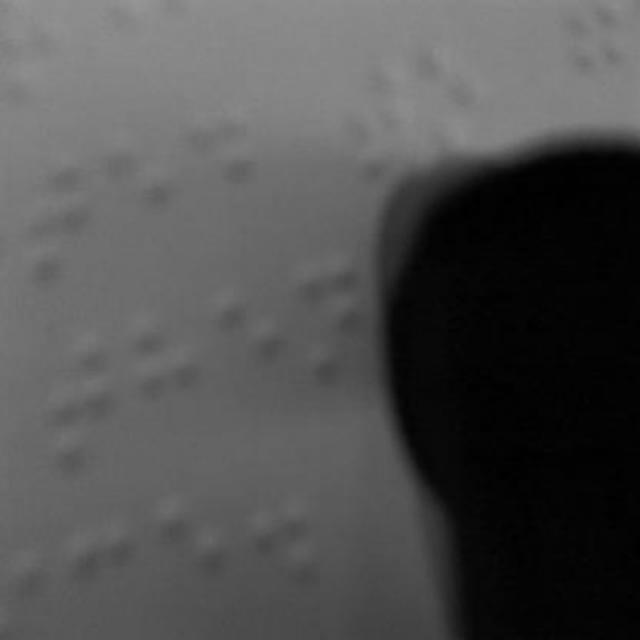braiile: (42, 323, 126, 483), (12, 137, 90, 293), (182, 92, 254, 258), (104, 120, 180, 272), (214, 274, 290, 424), (296, 246, 374, 390), (136, 308, 208, 460), (348, 56, 420, 190), (426, 29, 490, 155)
